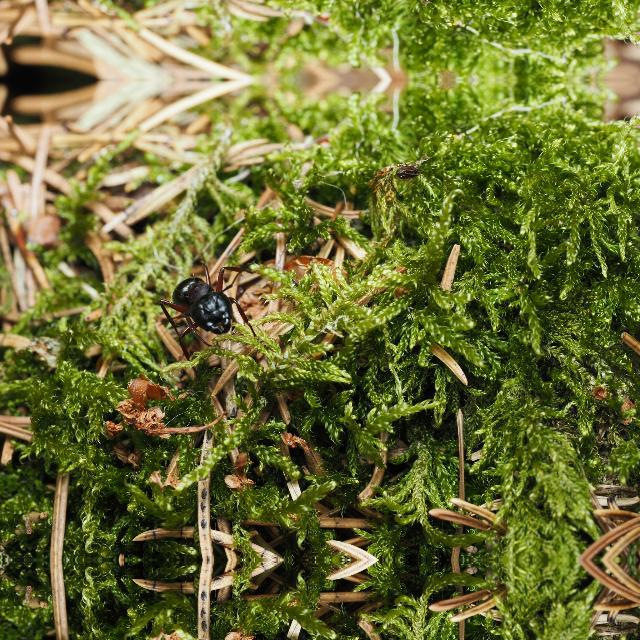Camponotus: (144, 248, 266, 352)
